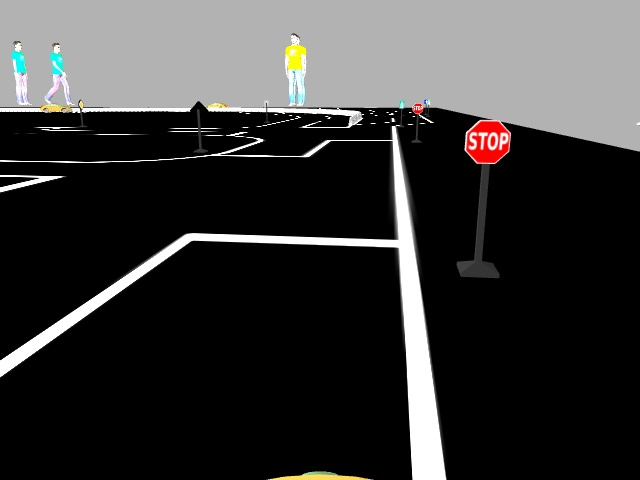Stop: (457, 115, 512, 166)
